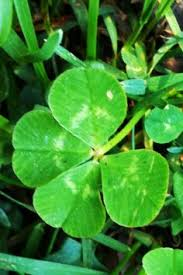4-clover: (17, 63, 166, 241)
